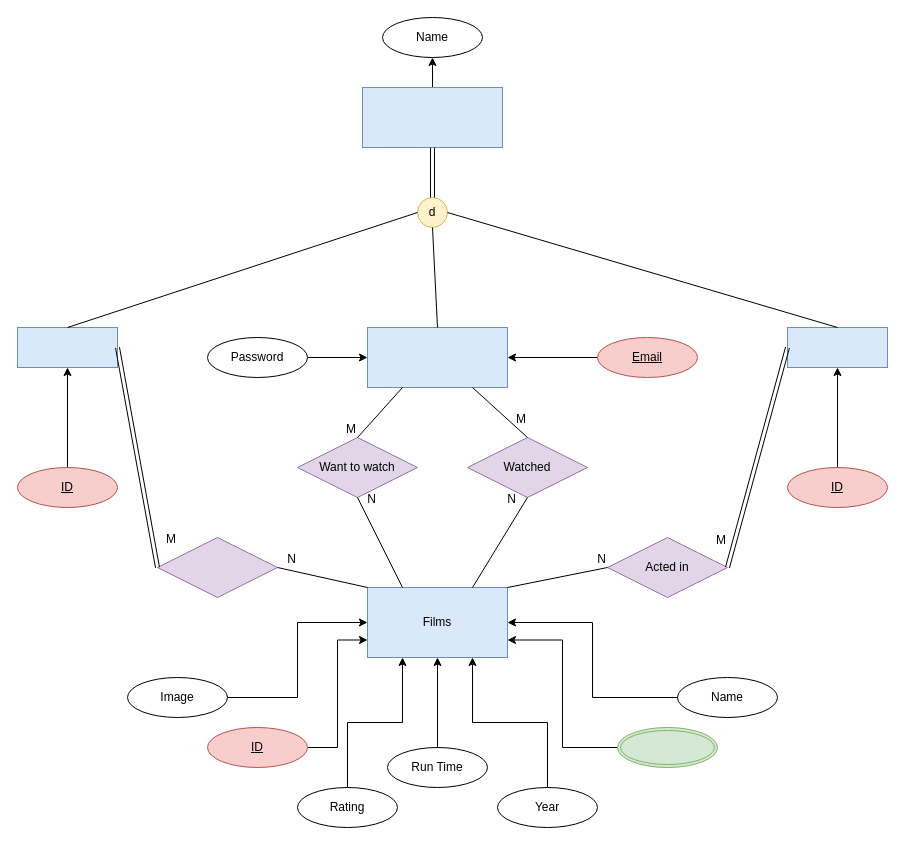
Image size: 905x845. Some labels were removed from this diagram. The shapes that lost their labels are listed below. From the top down, each one's centre as x and y in pixels, then its label:
At point 432,117: "Person".
At point 67,347: "Directors".
At point 437,357: "Users".
At point 837,347: "Stars".
At point 217,567: "Directed".
At point 667,747: "Genres".
